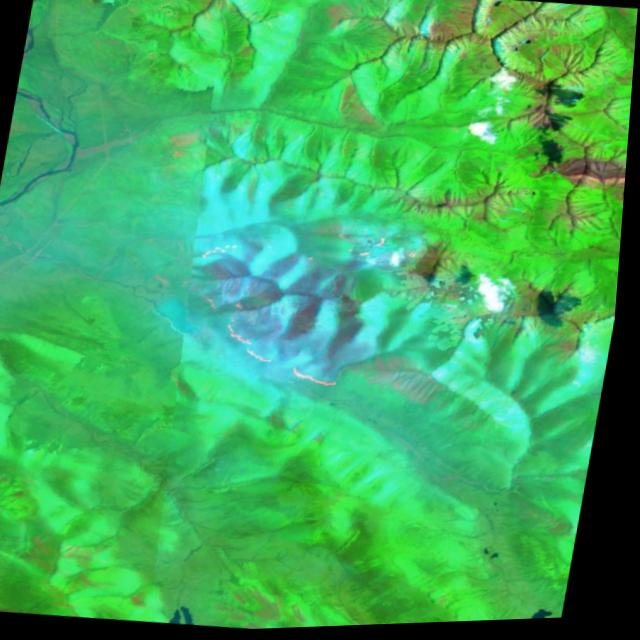fire: (130, 206, 432, 408)
